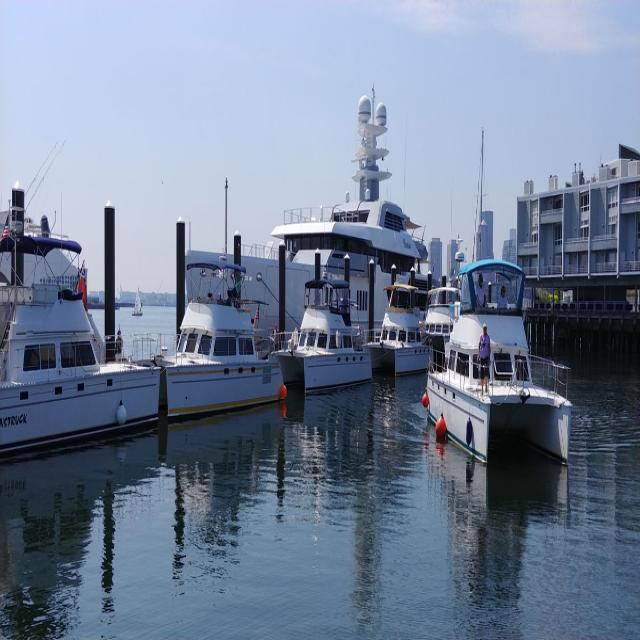houseboat: (422, 270, 574, 465), (0, 267, 169, 439), (148, 239, 270, 415), (286, 270, 370, 401), (372, 247, 430, 365)
